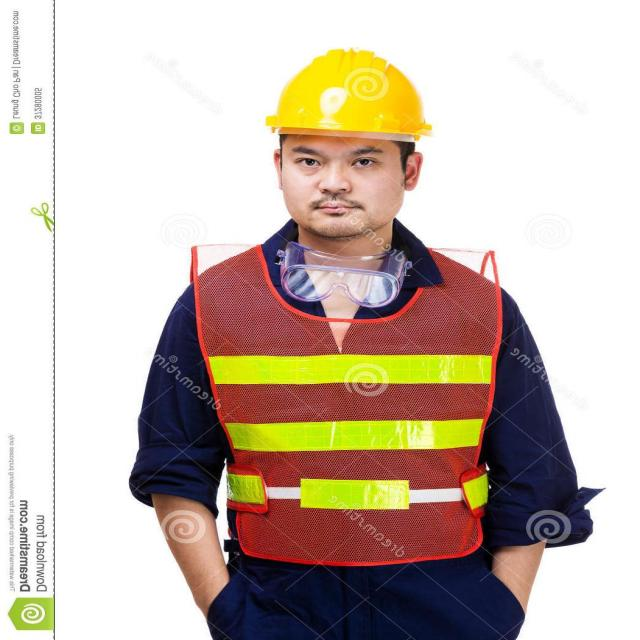Reflective-Jacket: (190, 245, 506, 567)
Safety-Helmet: (261, 46, 433, 145)
